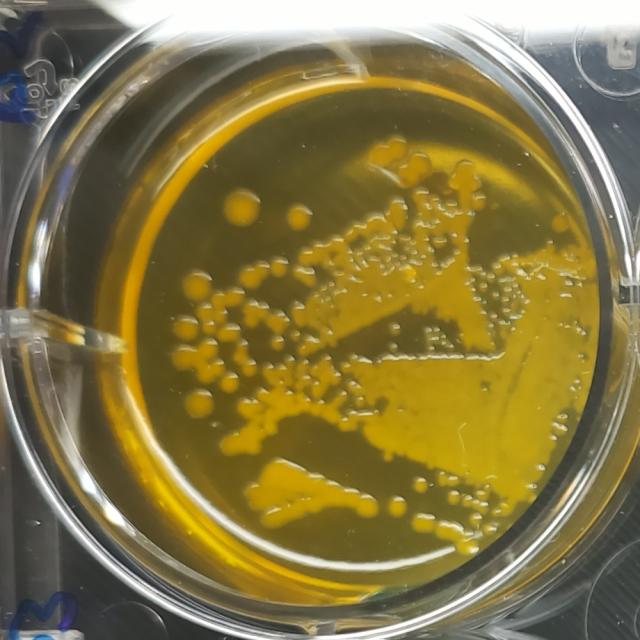vibrio: (216, 181, 268, 233), (178, 266, 215, 305), (394, 151, 434, 187), (298, 237, 348, 265), (445, 155, 482, 191), (284, 198, 318, 236), (370, 137, 410, 168), (182, 385, 216, 421), (167, 313, 200, 346), (240, 255, 272, 288), (212, 285, 251, 310), (234, 336, 257, 377), (245, 295, 272, 329), (385, 197, 411, 232), (363, 213, 395, 240), (356, 491, 382, 522), (170, 343, 197, 372), (198, 336, 222, 364), (384, 493, 409, 519), (411, 512, 437, 536), (219, 369, 241, 395), (269, 254, 288, 278), (410, 475, 430, 497), (268, 334, 286, 355), (467, 511, 483, 530), (446, 489, 461, 508)
